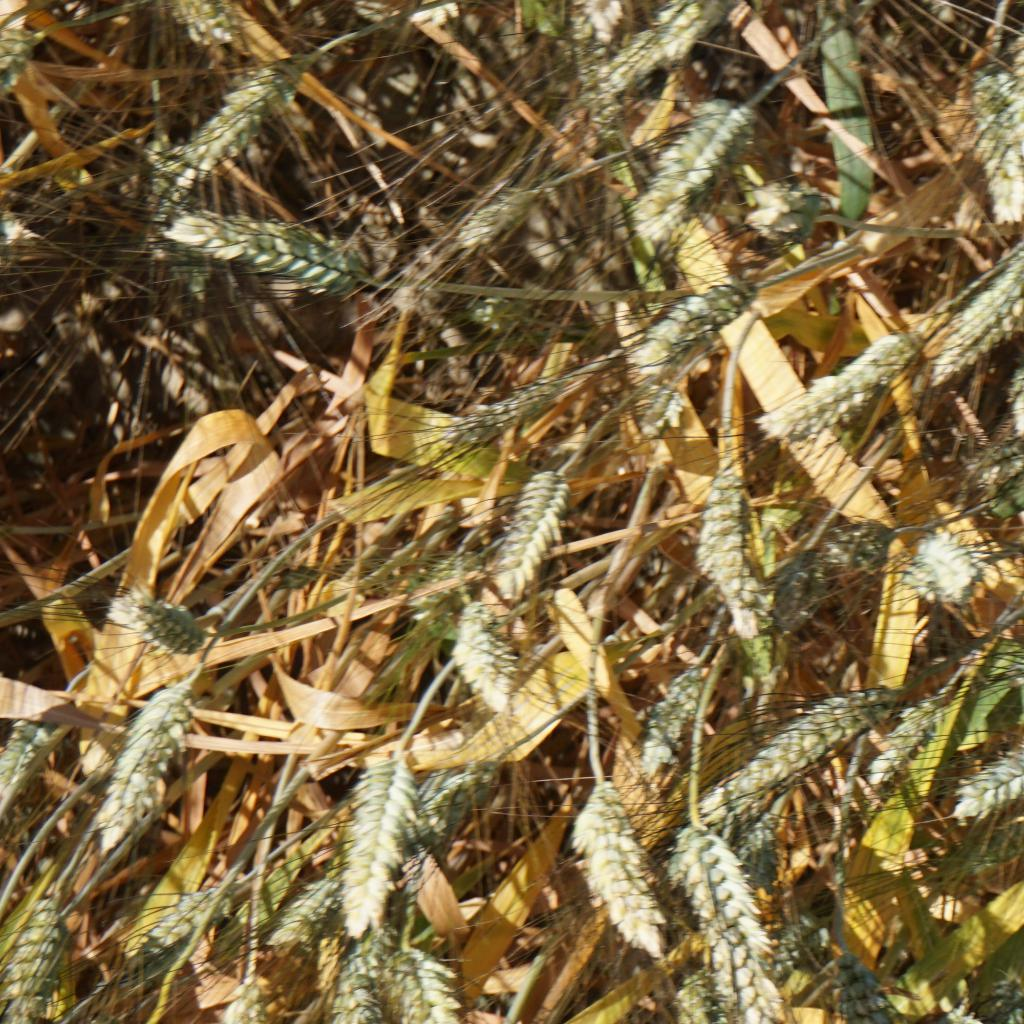0-0: (690, 708, 890, 813), (672, 822, 777, 1006), (759, 327, 933, 436), (619, 107, 737, 259), (166, 203, 358, 293), (147, 59, 307, 160), (578, 784, 668, 951), (112, 675, 202, 830), (329, 750, 404, 936), (474, 464, 573, 592), (607, 281, 742, 371), (583, 0, 739, 76), (855, 695, 961, 786), (109, 878, 230, 956), (960, 71, 1024, 218), (946, 246, 1024, 366), (0, 694, 68, 823), (621, 671, 701, 775), (694, 460, 759, 579), (378, 930, 457, 1024), (458, 367, 556, 439), (397, 752, 488, 829), (835, 937, 914, 1024), (745, 175, 827, 256), (449, 610, 519, 704), (11, 897, 73, 1003), (312, 934, 383, 1024), (108, 586, 195, 656), (954, 720, 1024, 805), (911, 523, 991, 594), (460, 187, 545, 253), (727, 816, 801, 891), (260, 872, 333, 948), (391, 544, 473, 610), (800, 516, 888, 573), (0, 11, 56, 92), (940, 818, 1024, 870), (153, 0, 236, 48), (976, 423, 1024, 499), (998, 8, 1024, 140), (770, 905, 823, 961), (558, 0, 631, 40), (658, 968, 710, 1024), (636, 386, 688, 436), (222, 968, 265, 1024), (979, 965, 1024, 1013), (1003, 339, 1024, 425), (471, 293, 519, 330)
